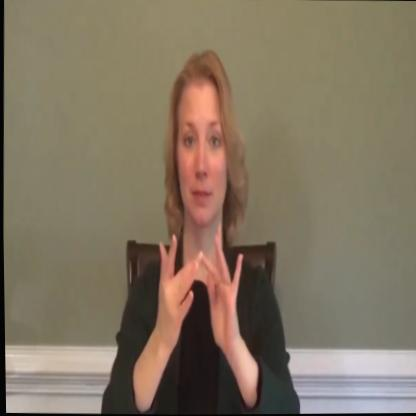Internet: (146, 224, 243, 362)
